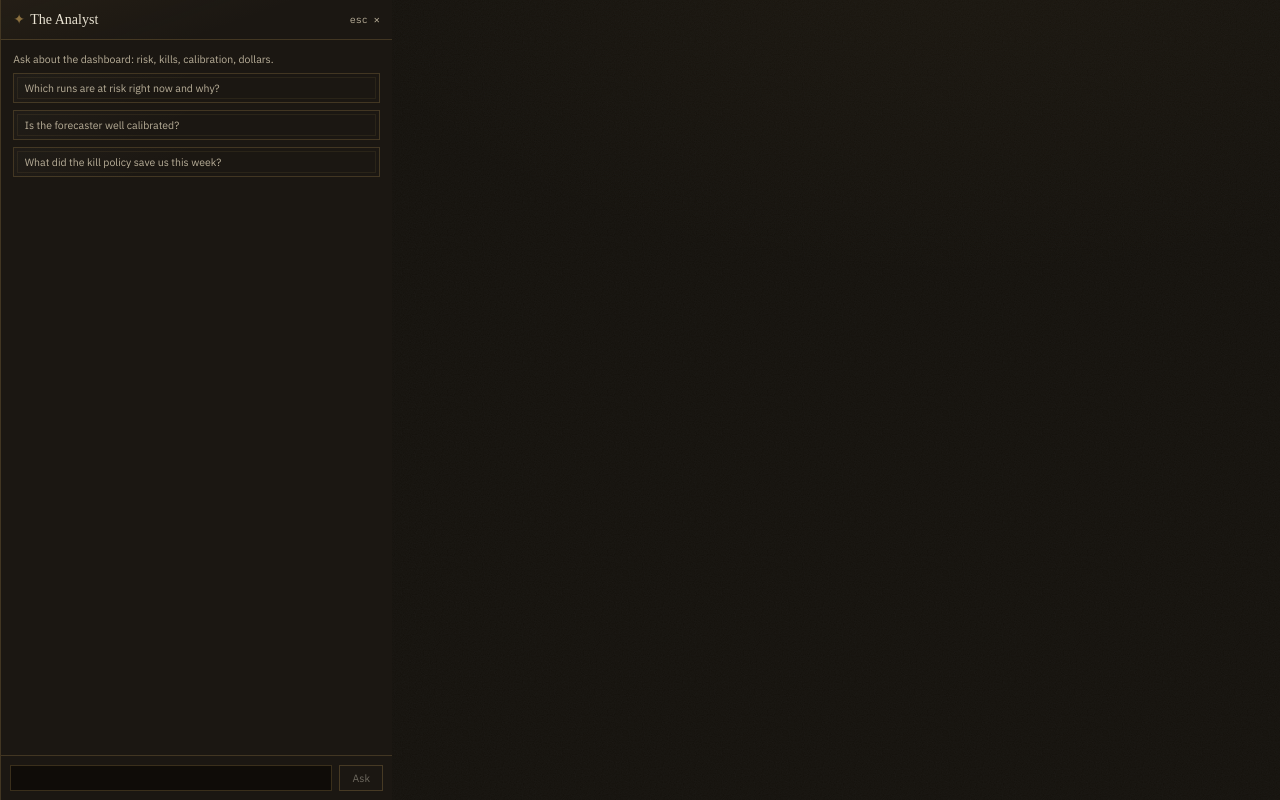
Test case: CopilotPanel › surfaces stream errors in the transcript
The width and height of the screenshot is (1280, 800).
Type "hello" into the field with test id "copilot-input" at (171, 778), box [10,765,332,791]
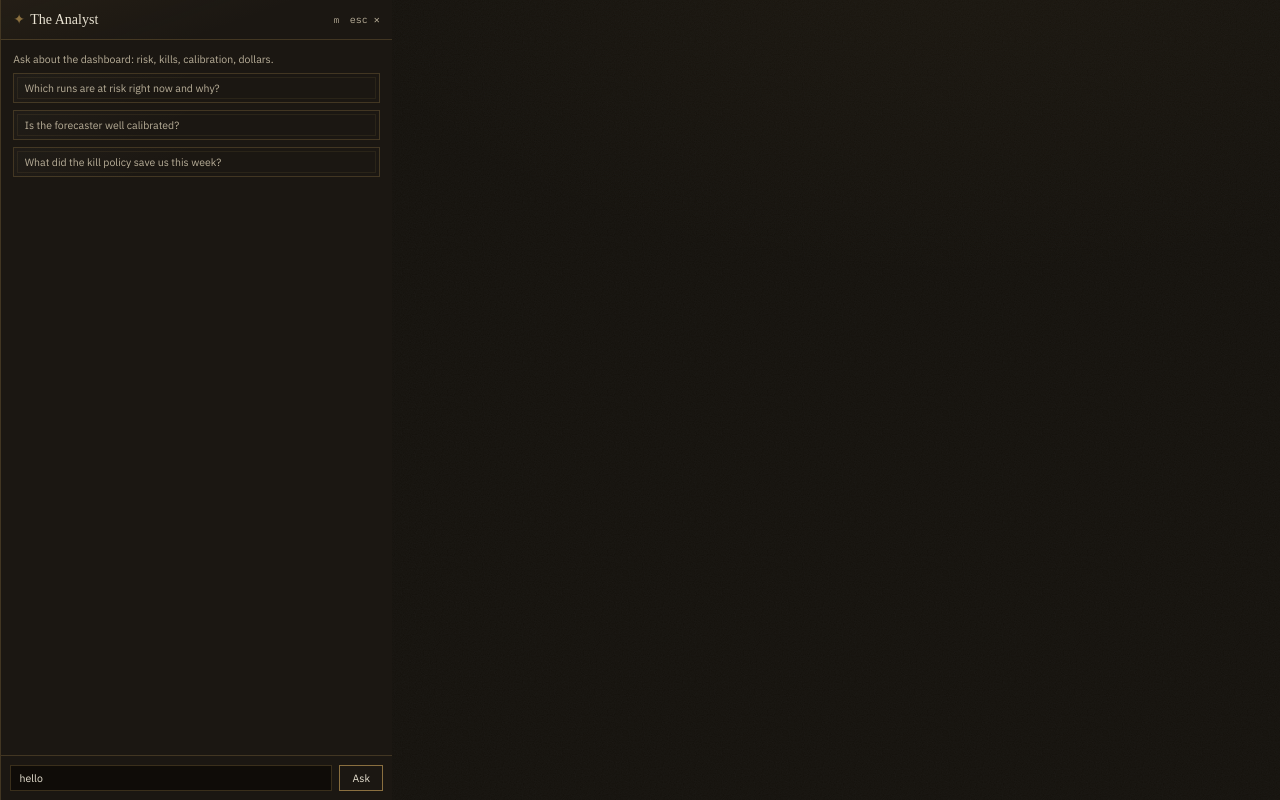
Click the button "Ask" at (361, 778), box [339,765,383,791]
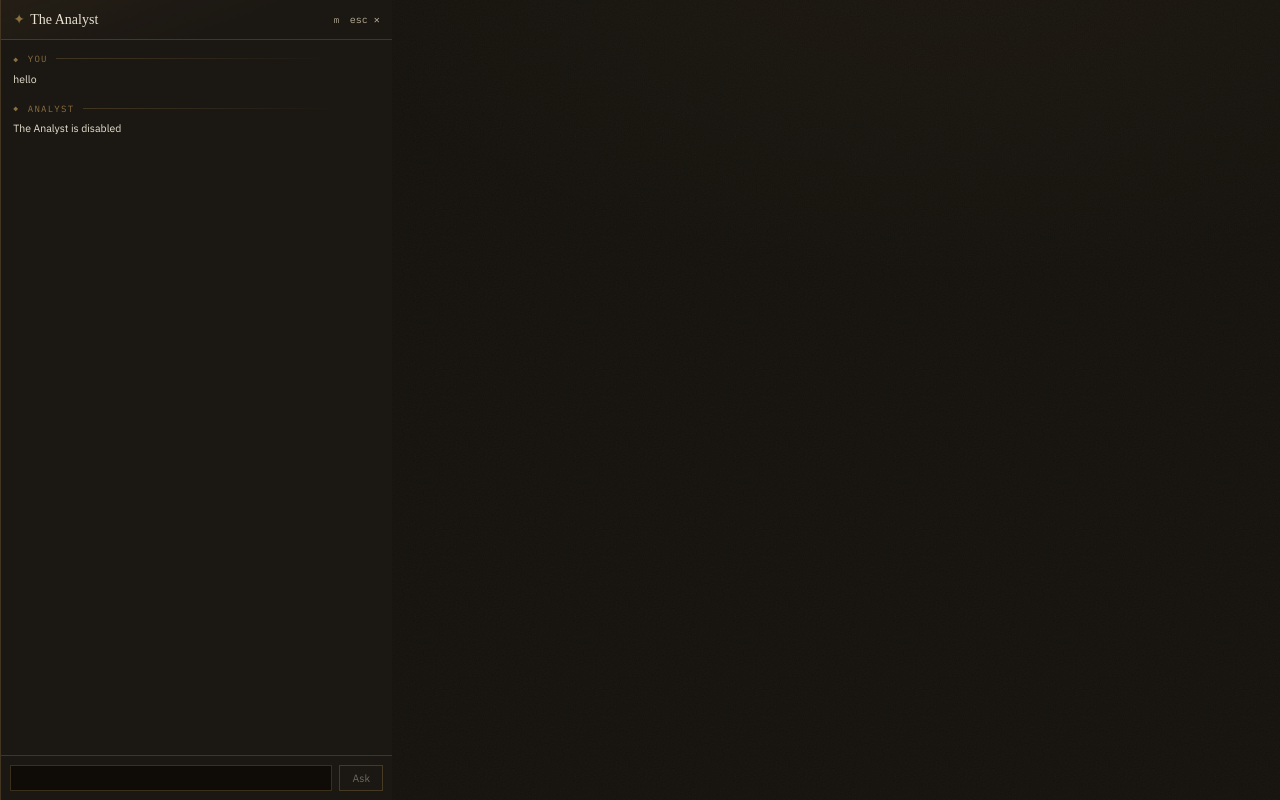
Expected: the text "The Analyst is disabled" is shown, [13,121,121,135]
